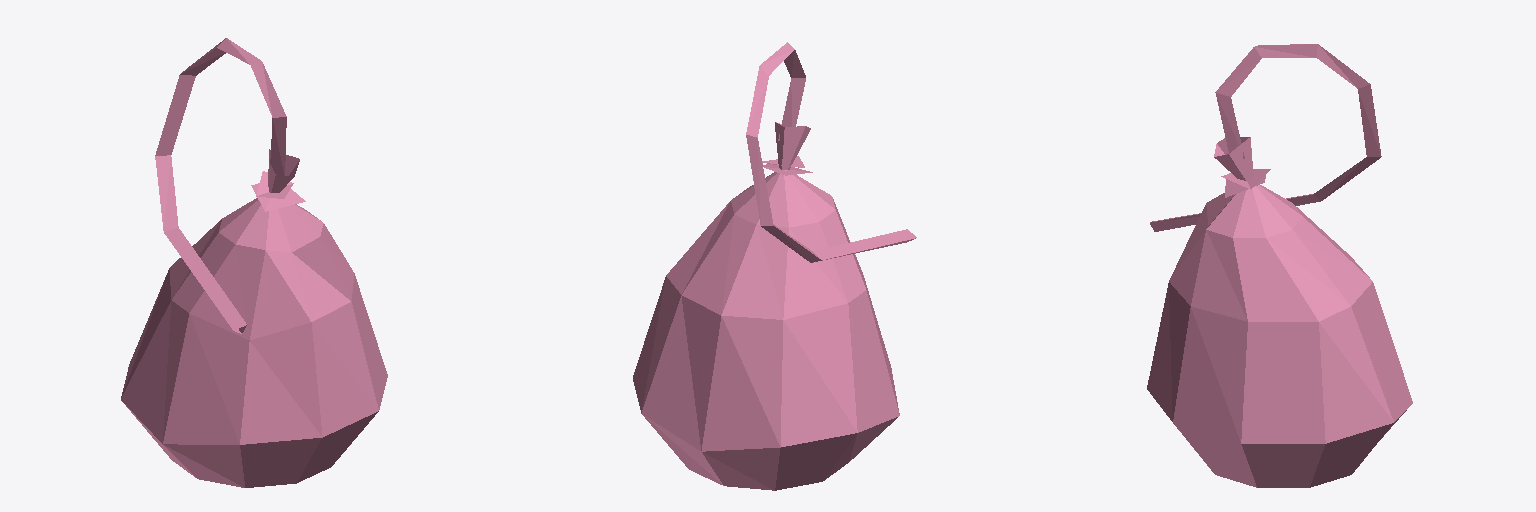
The model's file is waterbag.obj.
3 renders of one model, left to right at view 1: azimuth 30°, elevation 25°; view 2: azimuth 150°, elevation 25°; view 3: azimuth 270°, elevation 25°, orthographic.
Parts seen in each view (by area): view 1: Sphere01; view 2: Sphere01; view 3: Sphere01.
Part boxes in pixels (left/top/right/bottom): Sphere01: left=121, top=38, right=387, bottom=487; Sphere01: left=633, top=42, right=916, bottom=490; Sphere01: left=1147, top=44, right=1412, bottom=487.
Size of the model in its own units: 36.71 by 64.48 by 37.62.